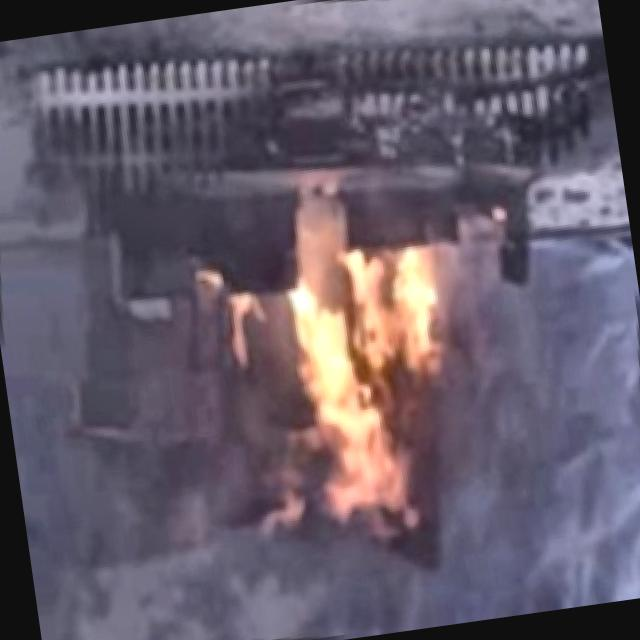fire: (219, 219, 480, 542)
